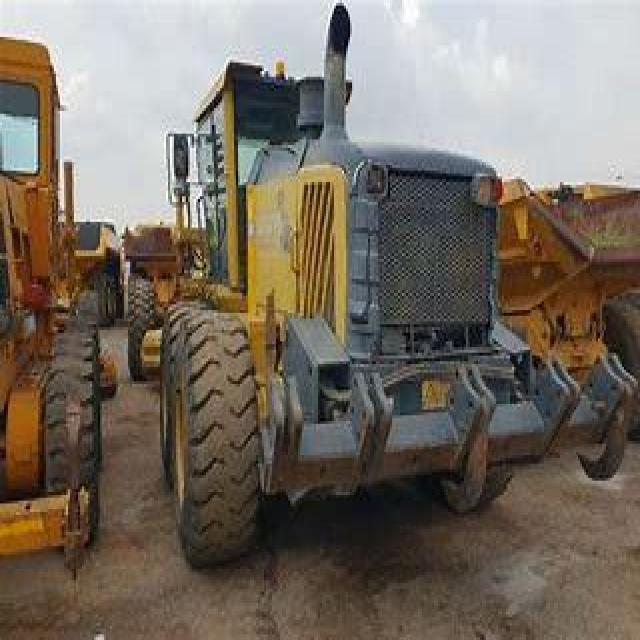buldozerpayloadergrader: (108, 26, 596, 574)
